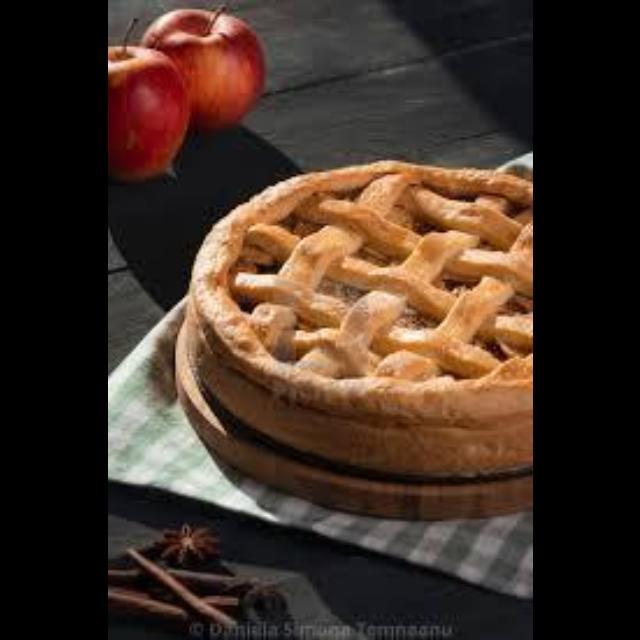apple: (142, 7, 263, 128), (107, 23, 186, 179)
